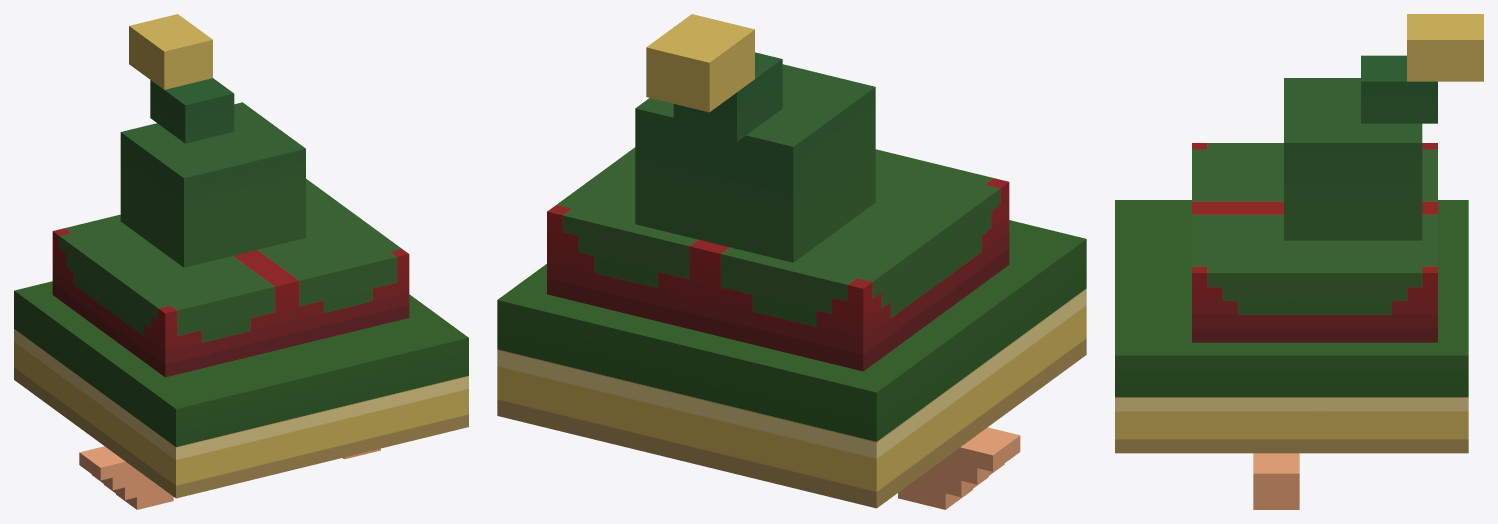
File: Accessories046.fbx
3 renders of one model, left to right at view 1: azimuth 30°, elevation 25°; view 2: azimuth 150°, elevation 25°; view 3: azimuth 270°, elevation 25°, orthographic. The views are drawn at different scales.
Parts seen in each view (by area): view 1: Accessories046; view 2: Accessories046; view 3: Accessories046.
Boxes of the visible parts, <box> form: Accessories046: <box>14,14,468,509</box>; Accessories046: <box>497,14,1086,509</box>; Accessories046: <box>1115,14,1483,509</box>.
Size of the model in its own units: 26.65 by 30.75 by 24.6.
